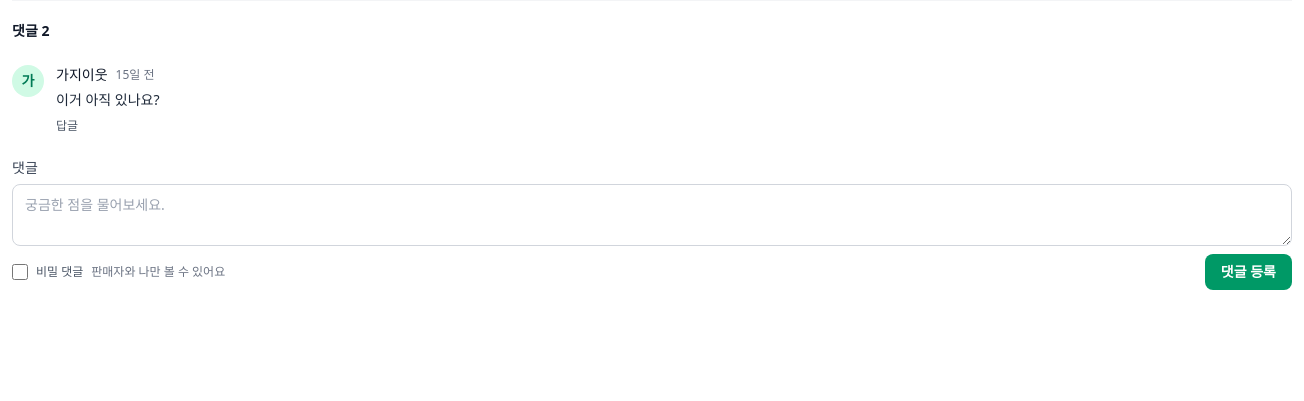
Test case: CommentSection › 댓글을 쓰면 목록 끝에 붙고 입력칸이 비워진다
In the text box labelled "댓글": coordinates (652, 215) [12,184,1292,246], type "네 있습니다"
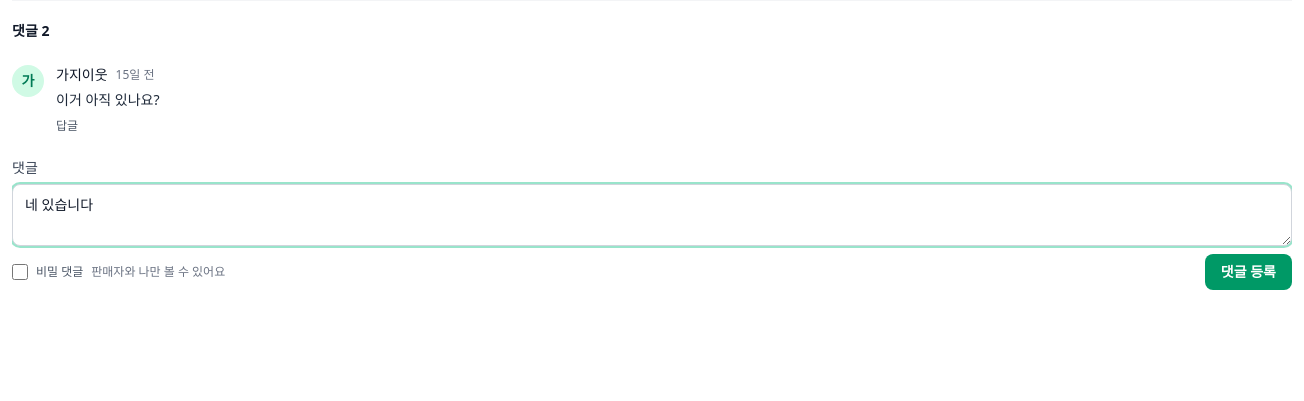
Click the button "댓글 등록": coordinates (1248, 272) [1205,254,1292,290]
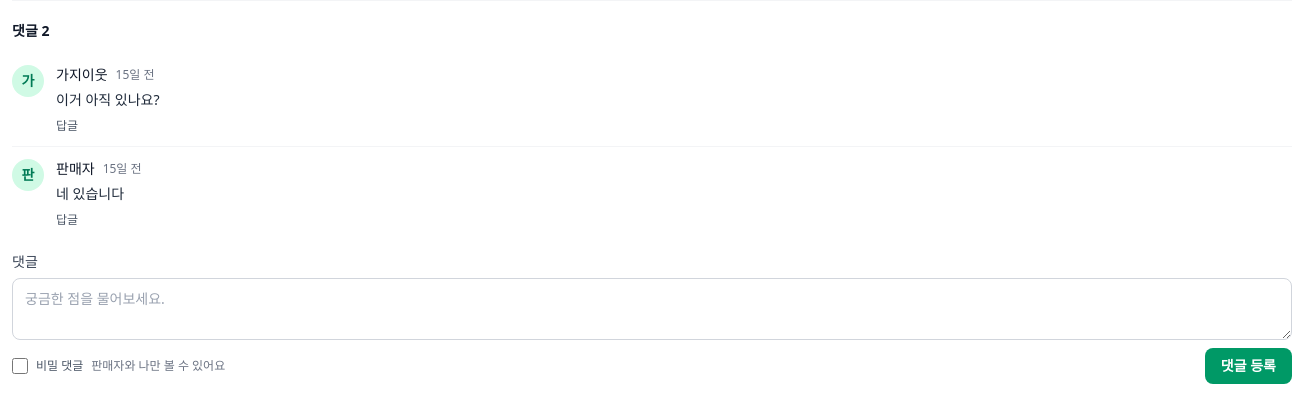
Check: the text "네 있습니다" is shown, box [56,184,124,203]
Check: the text box labelled "댓글" is empty, box [12,278,1292,340]
